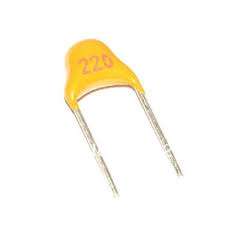ceramic capacitor: (41, 28, 182, 142)
